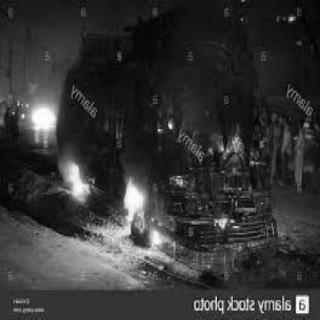other: (104, 165, 167, 262)
